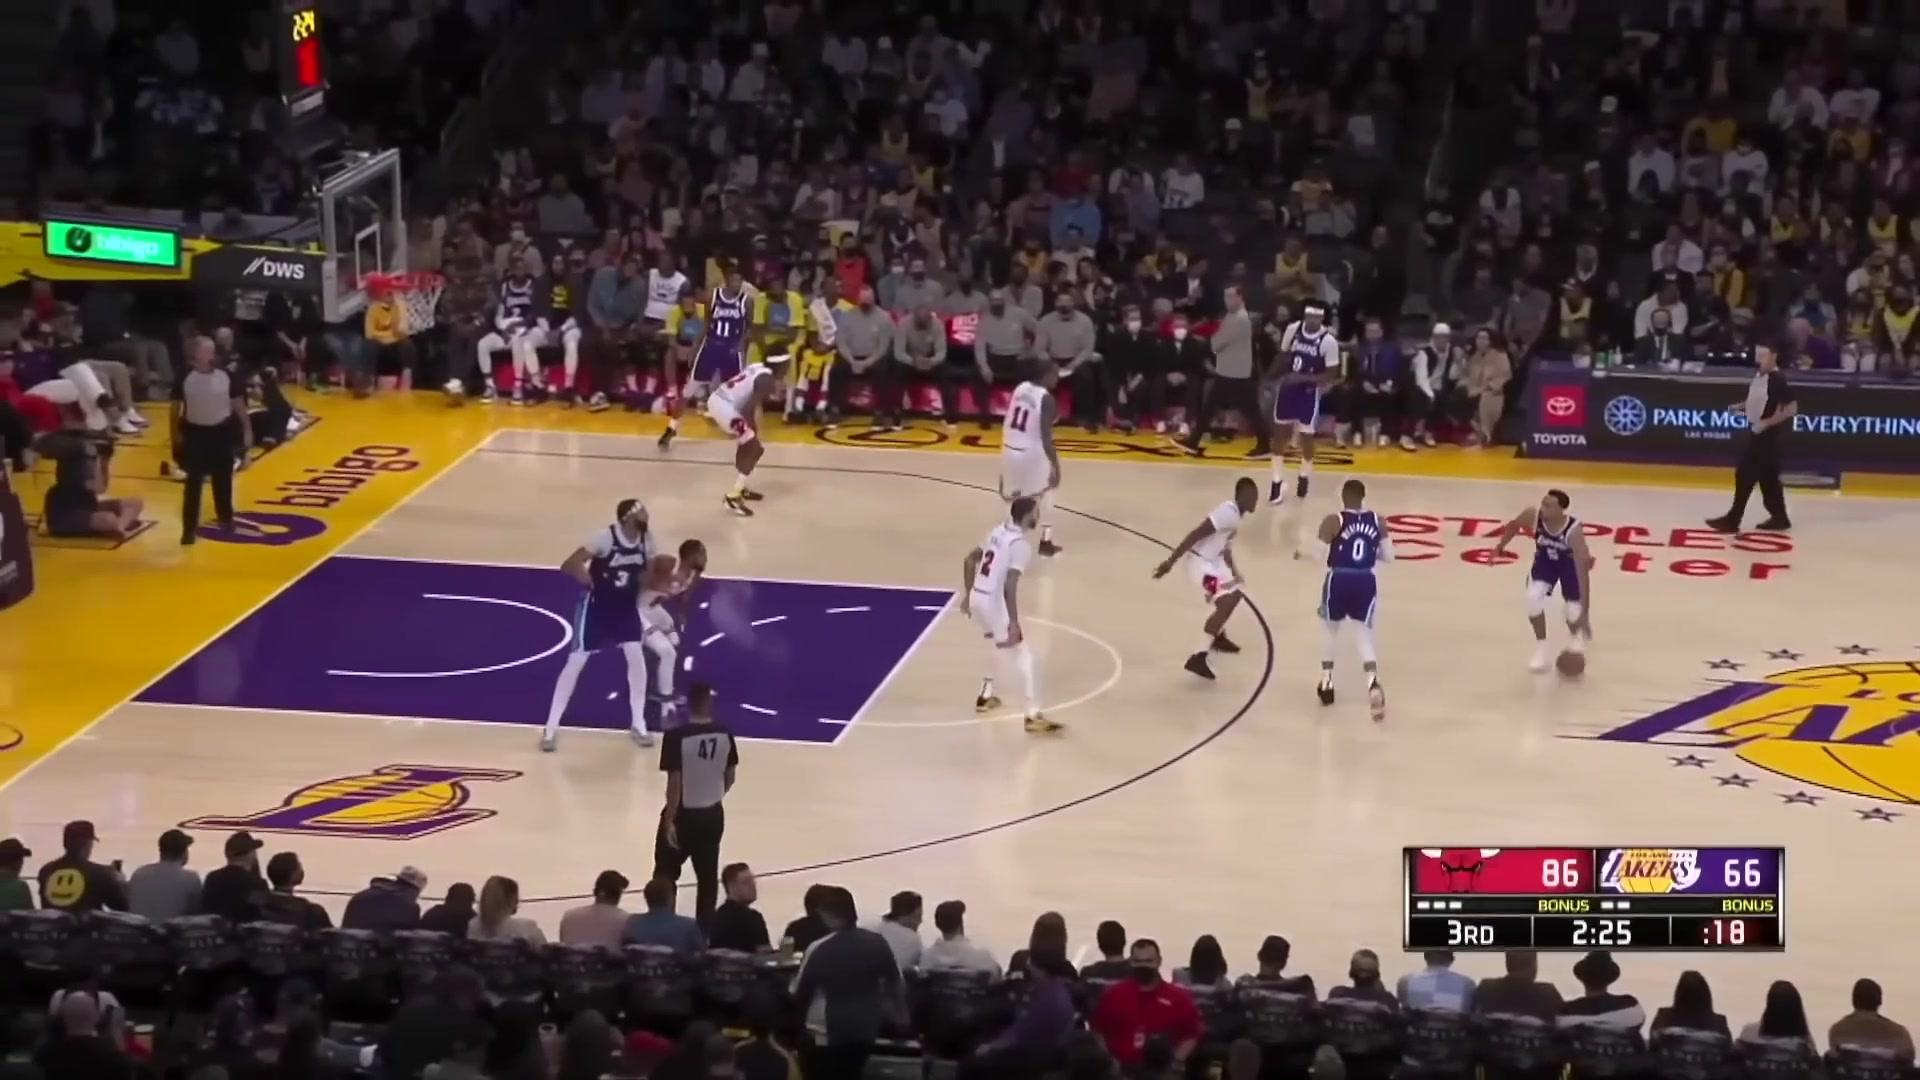foul: (534, 485, 700, 744)
